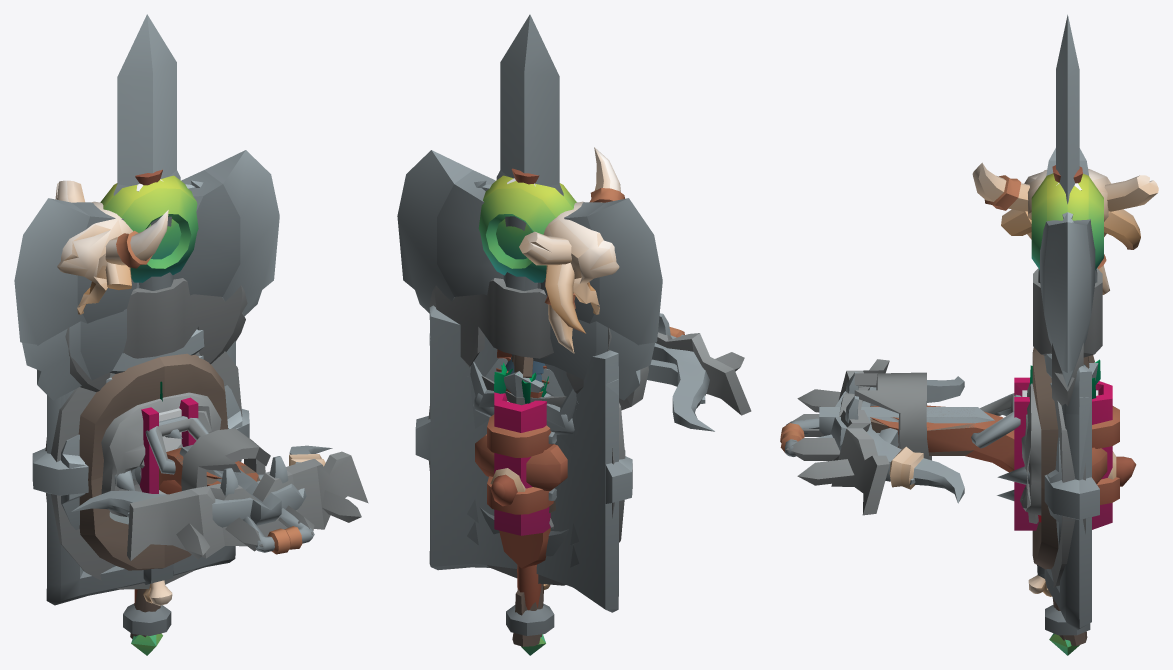
File: gear.glb
3 views of the same model, side by side, from view 1: azimuth 30°, elevation 25°; view 2: azimuth 150°, elevation 25°; view 3: azimuth 270°, elevation 25° (orthographic).
Parts seen in each view (by area): view 1: axe_2handed, Skeleton_Shield_Large_A, Skeleton_Crossbow, sword_2handed, Skeleton_Axe, staff, Skeleton_Staff, crossbow_2handed, shield_square, axe_1handed, shield_spikes, spellbook_closed (+2 smaller); view 2: shield_square, axe_2handed, sword_2handed, Skeleton_Staff, staff, Skeleton_Axe, spellbook_closed, axe_1handed, Skeleton_Crossbow, Skeleton_Shield_Large_A, crossbow_2handed, shield_spikes (+6 smaller); view 3: Skeleton_Crossbow, crossbow_2handed, Skeleton_Shield_Large_A, axe_2handed, Skeleton_Staff, shield_square, staff, spellbook_closed, crossbow_1handed, sword_2handed, shield_spikes, Skeleton_Axe (+1 smaller).
Boxes of the visible parts, x1,y1,x2,y2 form: axe_2handed: [14, 150, 279, 345]; Skeleton_Shield_Large_A: [45, 351, 242, 589]; Skeleton_Crossbow: [127, 418, 368, 561]; sword_2handed: [117, 14, 176, 185]; Skeleton_Axe: [65, 278, 247, 391]; staff: [100, 175, 203, 655]; Skeleton_Staff: [55, 180, 172, 638]; crossbow_2handed: [71, 445, 332, 554]; shield_square: [46, 329, 235, 605]; axe_1handed: [22, 282, 139, 400]; shield_spikes: [32, 350, 249, 584]; spellbook_closed: [139, 397, 198, 494]; shield_square: [429, 305, 618, 612]; axe_2handed: [397, 150, 662, 382]; sword_2handed: [470, 14, 576, 428]; Skeleton_Staff: [512, 147, 624, 646]; staff: [474, 175, 576, 655]; Skeleton_Axe: [429, 278, 611, 397]; spellbook_closed: [487, 392, 556, 535]; axe_1handed: [511, 282, 654, 400]; Skeleton_Crossbow: [619, 332, 751, 415]; Skeleton_Shield_Large_A: [428, 403, 625, 585]; crossbow_2handed: [651, 313, 714, 431]; shield_spikes: [415, 348, 632, 503]; Skeleton_Crossbow: [786, 359, 1014, 515]; crossbow_2handed: [780, 372, 1014, 503]; Skeleton_Shield_Large_A: [1020, 347, 1107, 587]; axe_2handed: [1038, 148, 1097, 387]; Skeleton_Staff: [972, 162, 1158, 645]; shield_square: [1044, 354, 1091, 630]; staff: [1031, 173, 1103, 655]; spellbook_closed: [1014, 377, 1119, 530]; crossbow_1handed: [872, 393, 1136, 486]; sword_2handed: [1056, 14, 1098, 380]; shield_spikes: [997, 399, 1099, 578]; Skeleton_Axe: [1033, 268, 1102, 406].
Bounding box in the file's own units: 1.24 × 2.86 × 1.53.
Materials: 5 (5 with a texture image).
